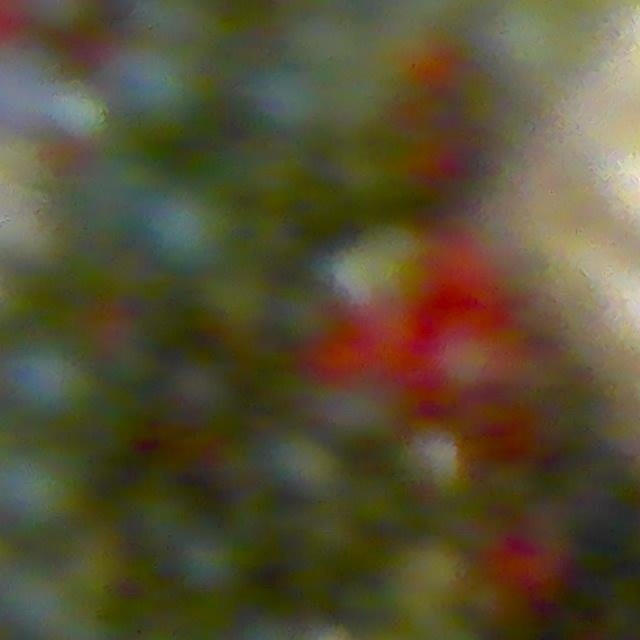SeaGrape: (3, 335, 98, 428), (114, 38, 210, 130), (1, 440, 92, 533), (144, 184, 238, 272), (164, 351, 242, 432), (247, 60, 326, 135), (44, 77, 109, 142)
